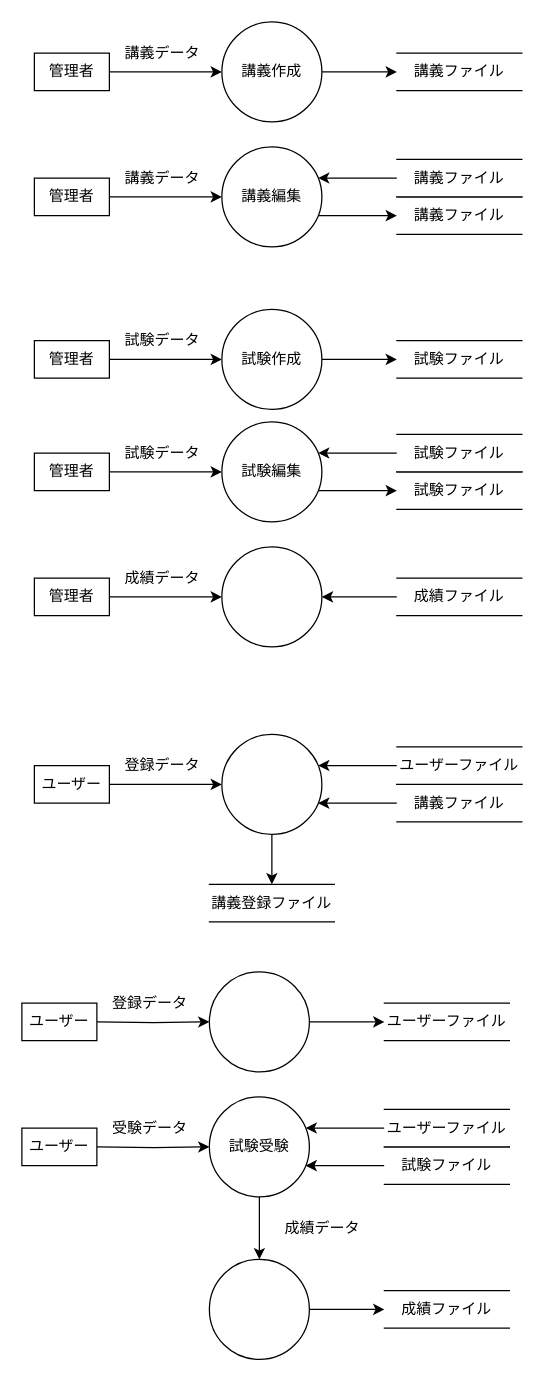
The diagram is 544 pixels wide and 1381 high, and some of its shapes have lost their labels. Here are the shapes that lost their labels. From the top down, the centre of each, then its label:
At pixel 271 596: "成績閲覧".
At pixel 271 783: "講義登録".
At pixel 258 1021: "ユーザー登録".
At pixel 258 1308: "成績登録".
